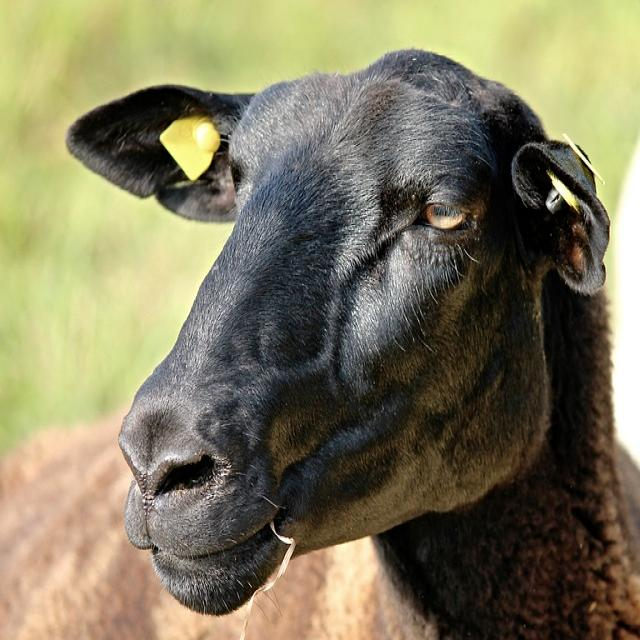goat: (63, 48, 640, 640)
